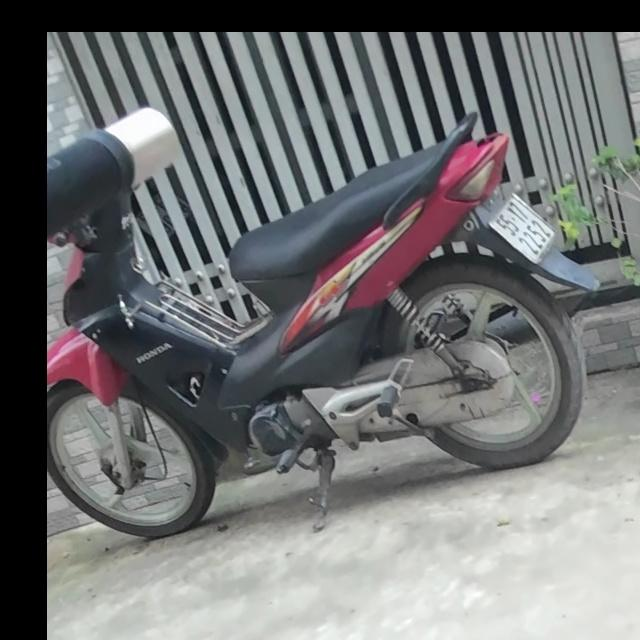license-plate: (491, 193, 557, 262)
